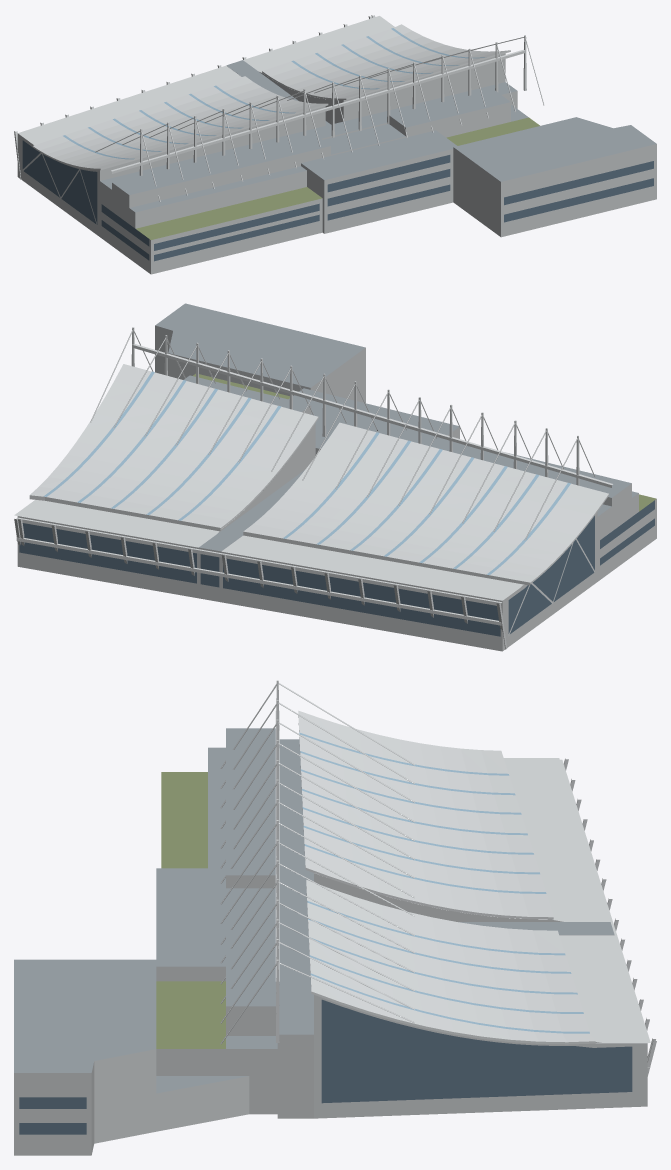
File: pit-convention-center.glb
3 renders of one model, top to bottom at view 1: azimuth 30°, elevation 25°; view 2: azimuth 150°, elevation 25°; view 3: azimuth 270°, elevation 25°, orthographic. The views are drawn at different scales.
Parts seen in each view (by area): view 1: David L. Lawrence Convention Center; view 2: David L. Lawrence Convention Center; view 3: David L. Lawrence Convention Center.
Part boxes in pixels (box(x1,y1,x2,y2)): David L. Lawrence Convention Center: box(14, 15, 656, 274); David L. Lawrence Convention Center: box(14, 303, 656, 651); David L. Lawrence Convention Center: box(14, 680, 656, 1155).
Size of the model in its own units: 308 by 70 by 249.
